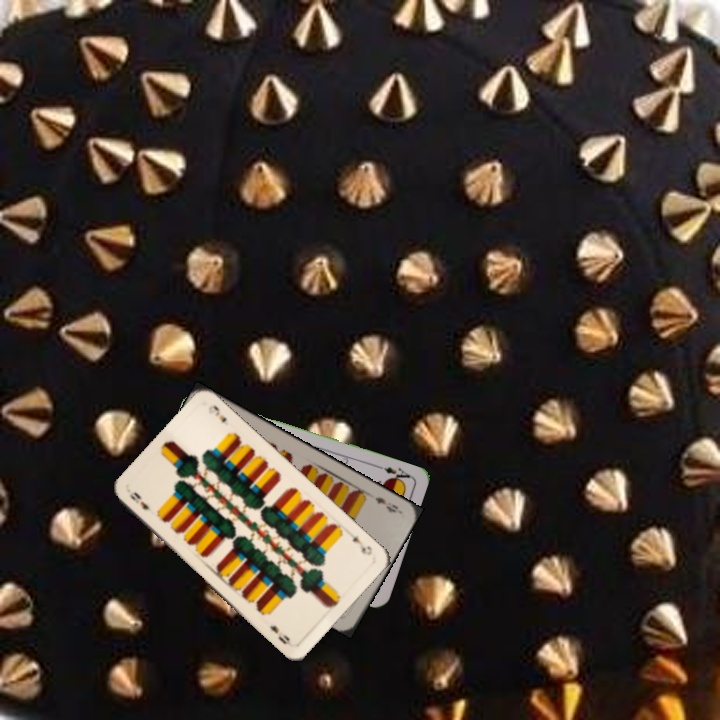E9: (371, 493, 403, 515), (348, 532, 375, 558), (125, 488, 152, 513)
EA: (380, 463, 414, 486)
